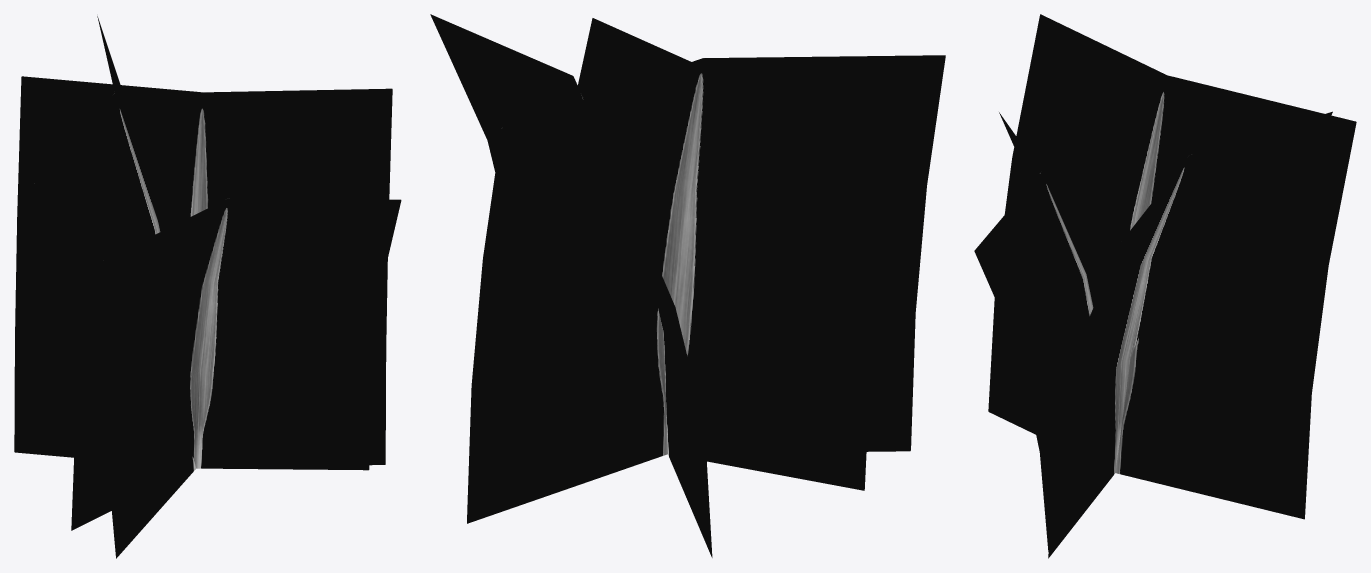
File: OnionPlant01.fbx
3 renders of one model, left to right at view 1: azimuth 30°, elevation 25°; view 2: azimuth 150°, elevation 25°; view 3: azimuth 270°, elevation 25°, orthographic. The views are drawn at different scales.
Parts seen in each view (by area): view 1: OnionPlant01_LOD0; view 2: OnionPlant01_LOD0; view 3: OnionPlant01_LOD0.
Part boxes in pixels (<box>): OnionPlant01_LOD0: <box>14,16,401,558</box>; OnionPlant01_LOD0: <box>430,14,945,557</box>; OnionPlant01_LOD0: <box>974,14,1356,558</box>.
Size of what is drawn, in the model's own units: 0.3462 by 0.3162 by 0.2871.
